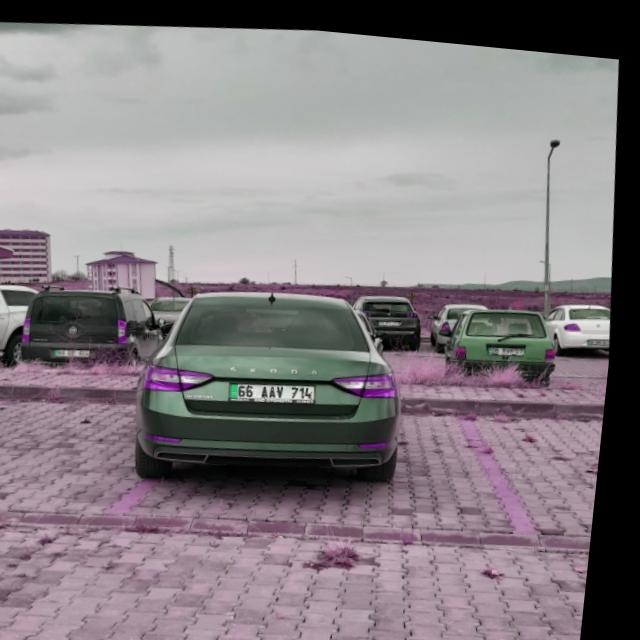license_plate: (237, 372, 324, 399)
